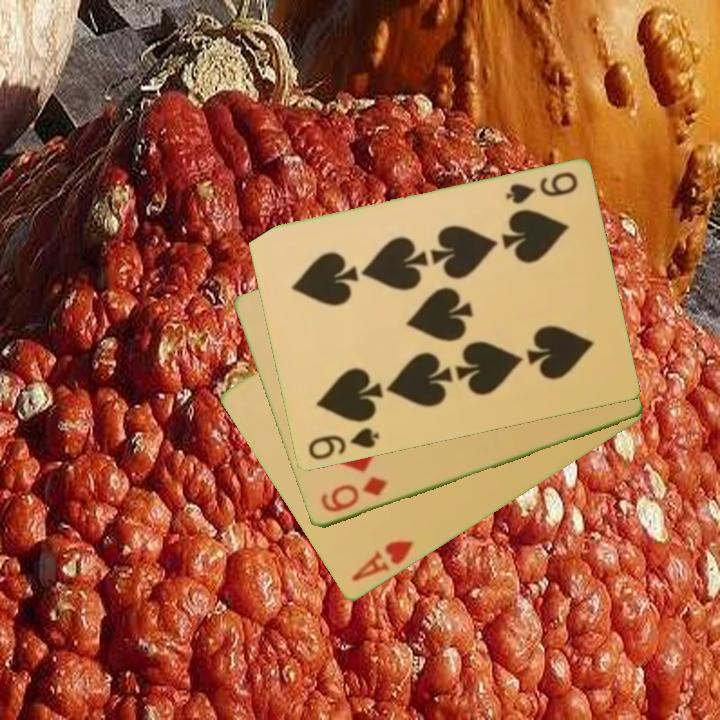6d: (317, 473, 390, 516)
9s: (501, 169, 581, 208), (304, 424, 382, 463)
Ah: (348, 537, 416, 585)
